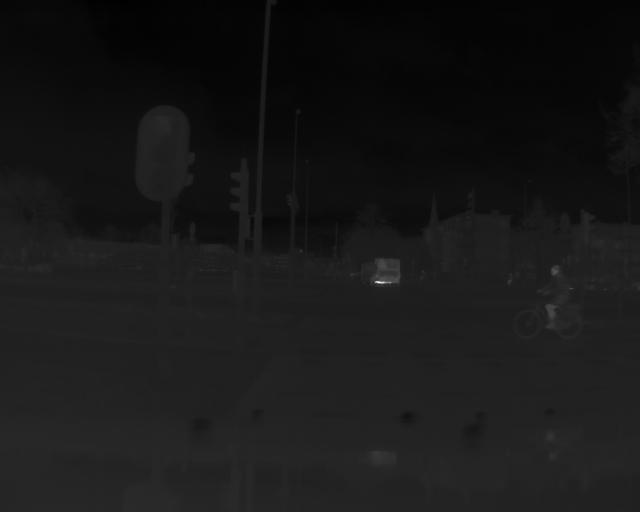car: (358, 256, 401, 290)
person: (534, 261, 575, 339)
